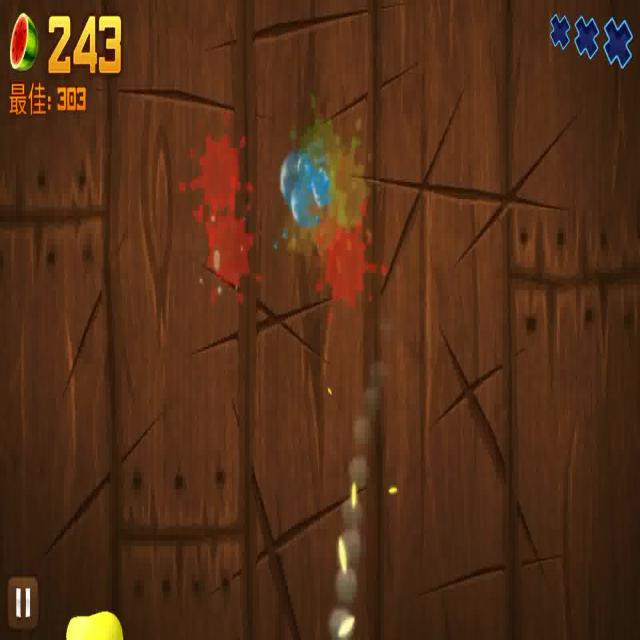fruit: (61, 606, 127, 640)
